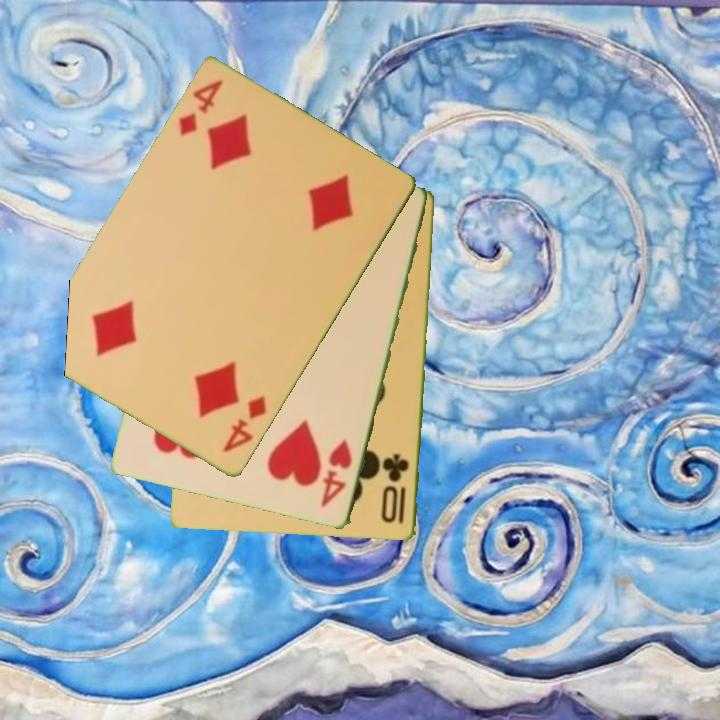10c: (379, 450, 412, 527)
4d: (219, 392, 270, 456), (175, 76, 226, 140)
4h: (317, 436, 355, 511)
